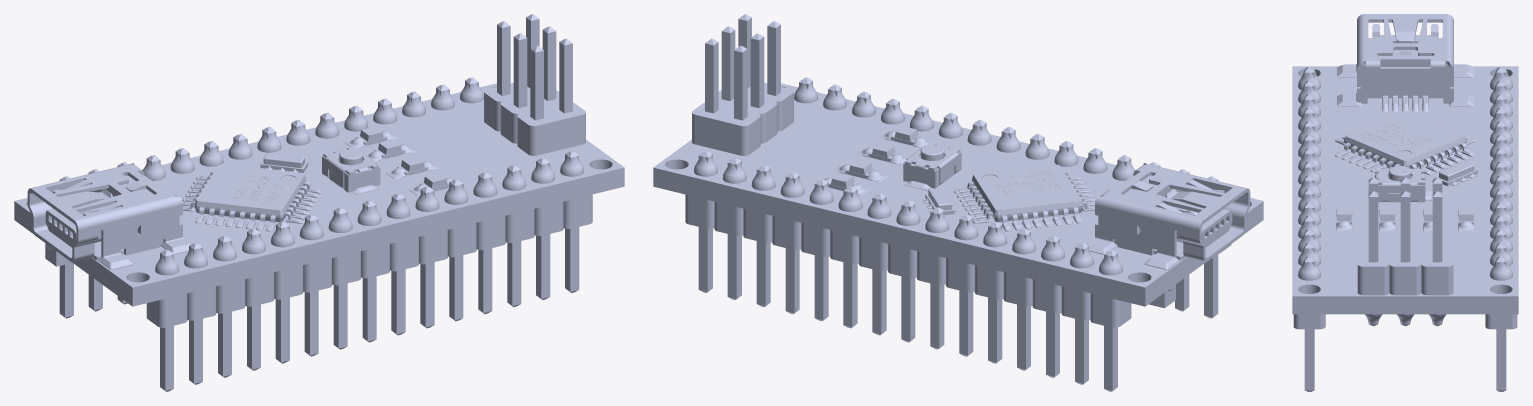
The model's file is nano-car.glb.
3 renders of one model, left to right at view 1: azimuth 30°, elevation 25°; view 2: azimuth 150°, elevation 25°; view 3: azimuth 270°, elevation 25°, orthographic. The views are drawn at different scales.
Visible parts, largest first — view 1: NAUO27; view 2: NAUO27; view 3: NAUO27.
Boxes of the visible parts, x1=… form: NAUO27: x1=14, y1=14, x2=624, y2=391; NAUO27: x1=653, y1=14, x2=1263, y2=391; NAUO27: x1=1292, y1=14, x2=1518, y2=391.
Bounding box in the file's own units: 0.045 × 0.0186 × 0.018.
